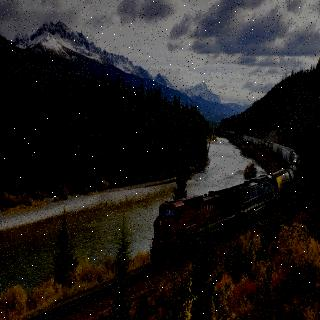poezd: (154, 167, 275, 266)
